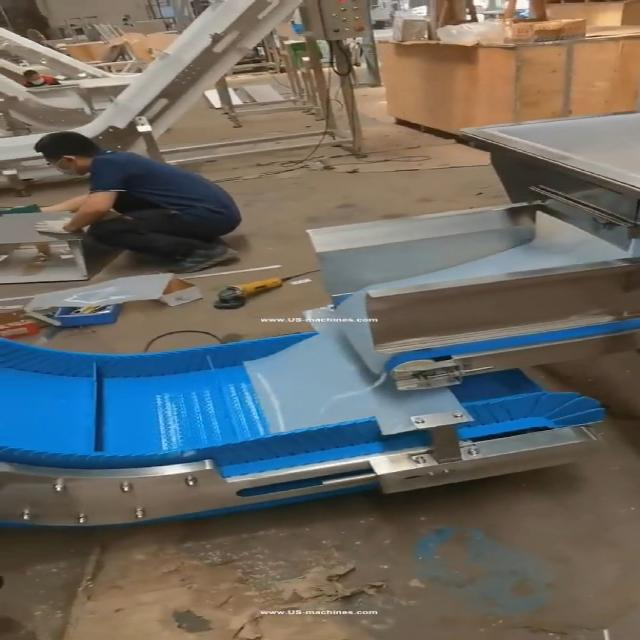Convoyeur: (0, 324, 640, 539)
